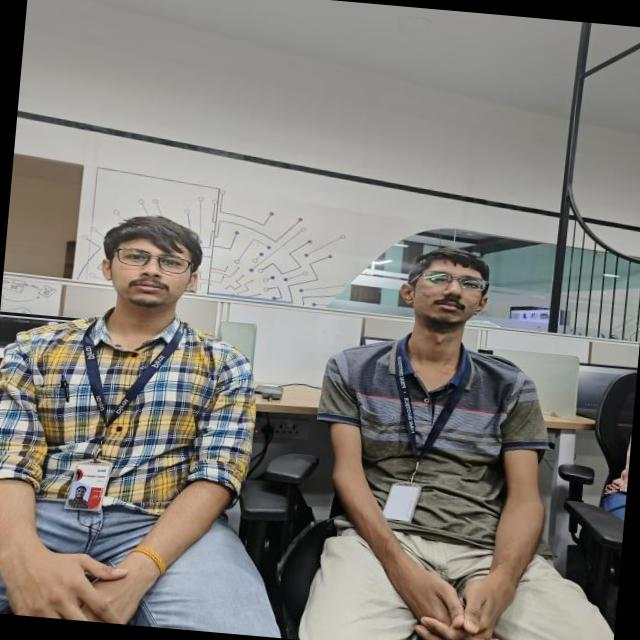id_card: (54, 309, 178, 517), (382, 329, 468, 532)
